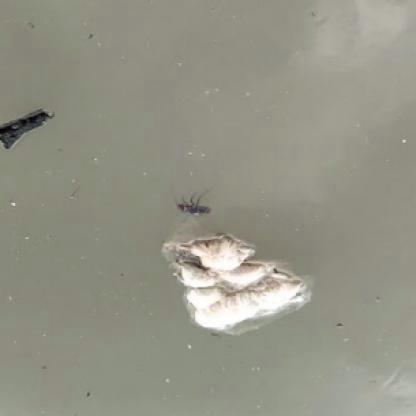Trash: (154, 230, 317, 340)
